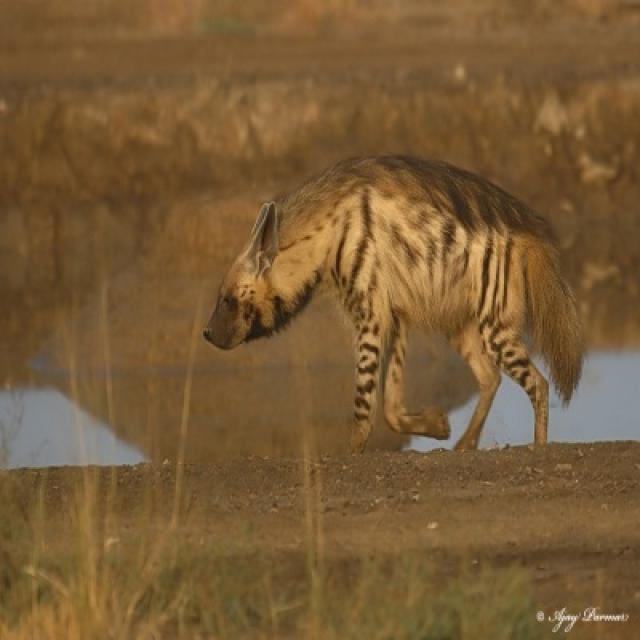hyena: (203, 155, 587, 453)
